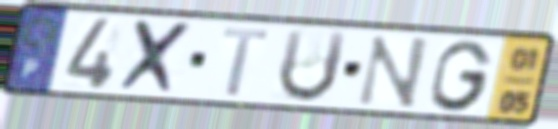4: (62, 16, 118, 92)
G: (428, 37, 496, 114)
N: (352, 33, 433, 111)
T: (219, 25, 273, 99)
U: (274, 27, 351, 106)
X: (114, 17, 199, 98)
